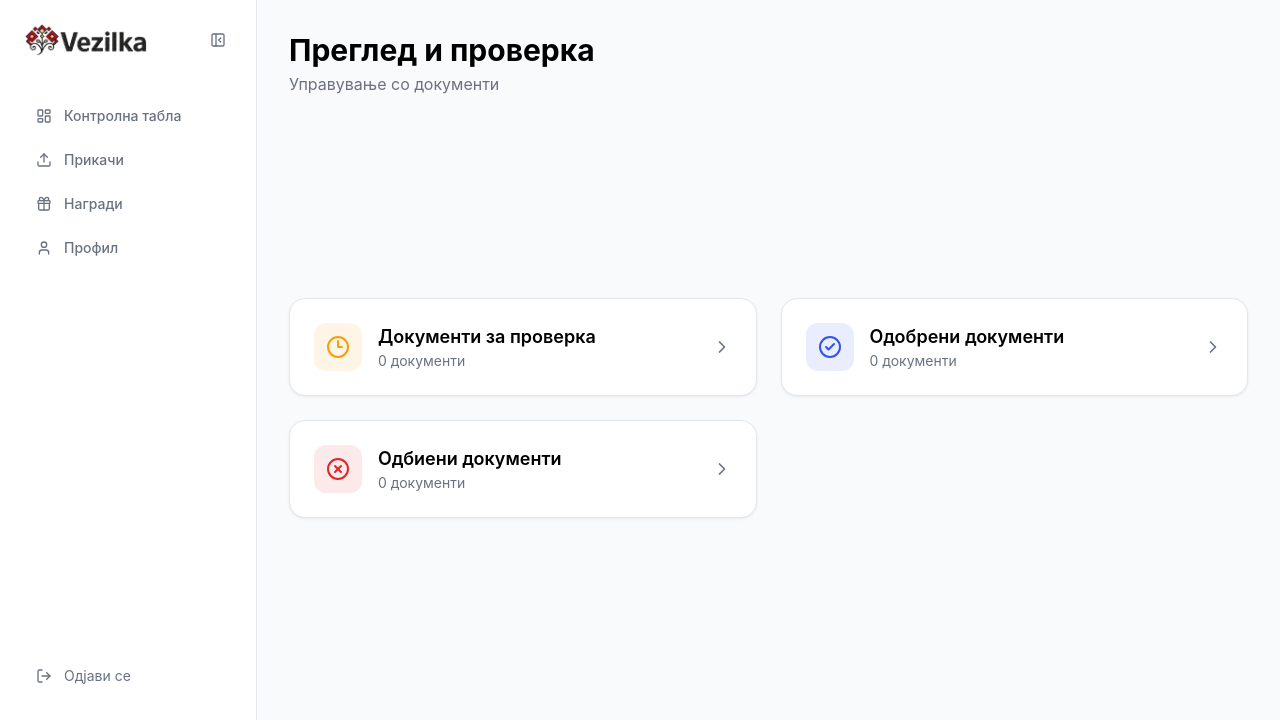
Test: AdminPage › opens pending documents section
Step 1. Click the button "Документи за проверка 0 документи" → click(523, 347), box 289,298 -> 756,396
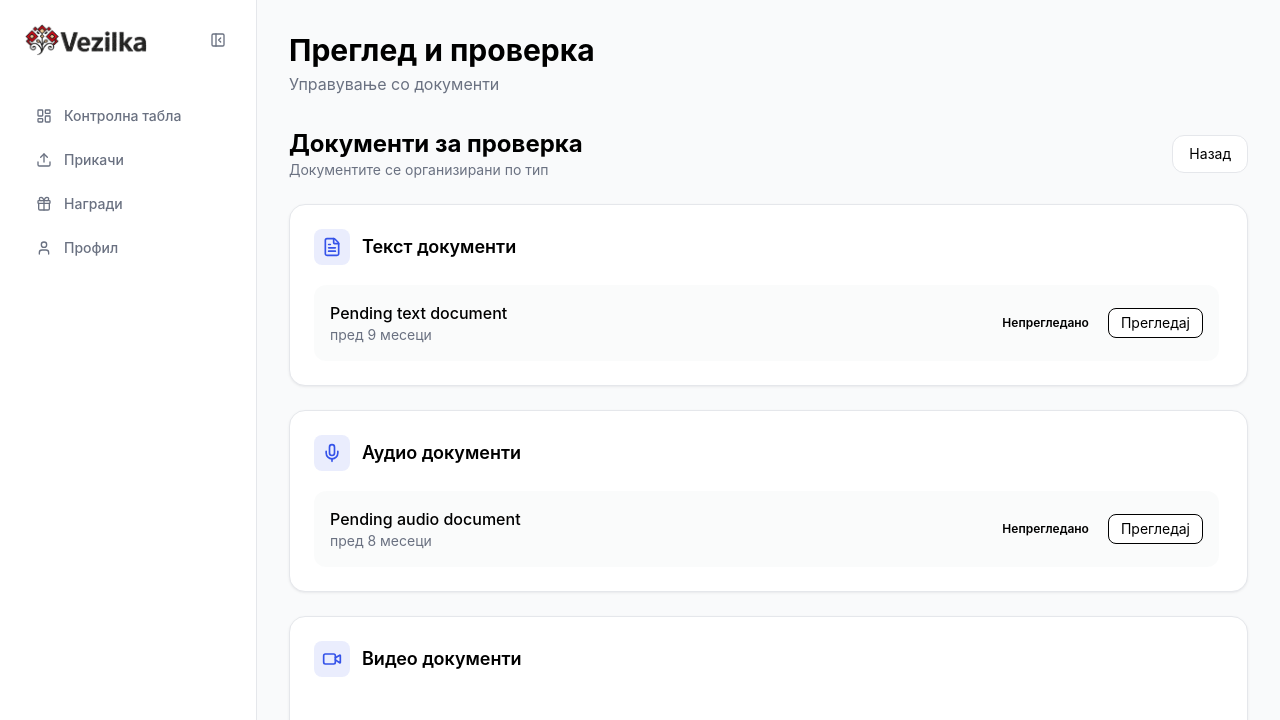
Expected: the heading "Текст документи" is shown, 362,233 -> 516,261
Expected: the heading "Аудио документи" is shown, 362,439 -> 521,467
Expected: the heading "Видео документи" is shown, 362,645 -> 522,673
